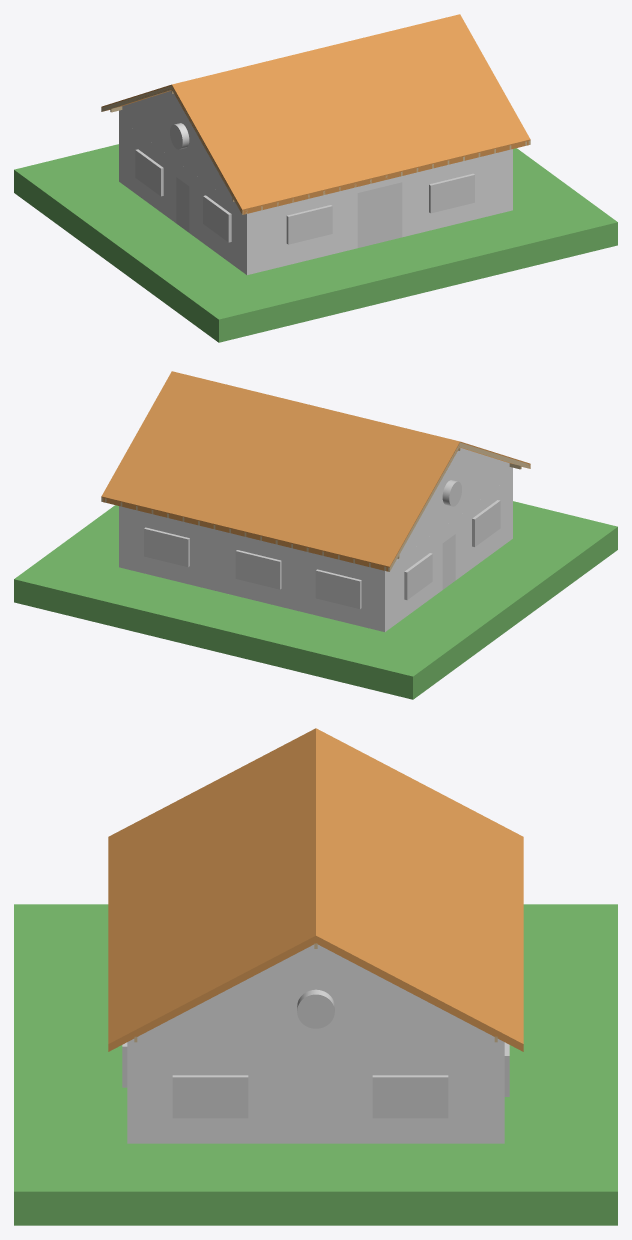
Rendered from casa-fzk-draco.glb.
3 renders of one model, top to bottom at view 1: azimuth 30°, elevation 25°; view 2: azimuth 150°, elevation 25°; view 3: azimuth 270°, elevation 25°, orthographic. The views are drawn at different scales.
Visible parts, largest first — view 1: product-92ede797-79f6-4b19-897f-a2c98ca59097-body, product-145b3b0a-bf19-4509-ba9a-e1604ce9fa67-body, product-463575f4-f696-42de-bde9-918a6fe7650a-body, product-f5661f93-e3d1-49ce-8861-886e8d4ef048-body, product-2ec5748a-7cb6-4b3f-92fc-fb015a7d1d9e-body, product-75f944a3-7150-c805-483c-d626a1631142-body, product-66022b85-b15d-5f6c-4a03-f05a8e78e524-body, product-b88a4815-c968-5066-013d-8d59a4f8b835-body, product-36a3495d-256b-e668-a87e-500895f4d206-body, product-97389d14-9a07-8f0b-8c9f-adb734767fa4-body, product-046e6878-0705-3bcd-0c53-ebe1f26cb571-body; view 2: product-145b3b0a-bf19-4509-ba9a-e1604ce9fa67-body, product-073b1976-d302-4c1c-a68c-26cf0bea970d-body, product-65f697f6-4f4c-4836-8159-e2e335d3cbfd-body, product-f5661f93-e3d1-49ce-8861-886e8d4ef048-body, product-2ec5748a-7cb6-4b3f-92fc-fb015a7d1d9e-body, product-0b19e58a-6a5f-ab9d-c6c0-c421a76a57b8-body, product-689e0070-8164-1a28-12bc-3c6563380d63-body, product-b21bbe9f-54cd-261d-b4e1-60a465941b34-body, product-36a3495d-256b-e668-a87e-500895f4d206-body, product-97389d14-9a07-8f0b-8c9f-adb734767fa4-body, product-046e6878-0705-3bcd-0c53-ebe1f26cb571-body; view 3: product-145b3b0a-bf19-4509-ba9a-e1604ce9fa67-body, product-073b1976-d302-4c1c-a68c-26cf0bea970d-body, product-92ede797-79f6-4b19-897f-a2c98ca59097-body, product-85a76959-f2e0-457f-9e21-4bff17528c54-body, product-df324d5e-52a4-4197-8572-08263dee8193-body, product-a63e1bb0-e57f-46d0-8761-c8ccca838162-body, product-98800651-181e-5c1c-7efb-f210721c4e08-body, product-280ac816-0d23-1e5d-f88a-bb0645892c3b-body.
Boxes of the visible parts, <box> form: product-92ede797-79f6-4b19-897f-a2c98ca59097-body: <box>172,14,530,214</box>; product-145b3b0a-bf19-4509-ba9a-e1604ce9fa67-body: <box>14,144,617,342</box>; product-463575f4-f696-42de-bde9-918a6fe7650a-body: <box>247,149,512,274</box>; product-f5661f93-e3d1-49ce-8861-886e8d4ef048-body: <box>119,119,246,274</box>; product-2ec5748a-7cb6-4b3f-92fc-fb015a7d1d9e-body: <box>119,91,236,204</box>; product-75f944a3-7150-c805-483c-d626a1631142-body: <box>357,182,402,247</box>; product-66022b85-b15d-5f6c-4a03-f05a8e78e524-body: <box>286,205,332,244</box>; product-b88a4815-c968-5066-013d-8d59a4f8b835-body: <box>429,173,474,213</box>; product-36a3495d-256b-e668-a87e-500895f4d206-body: <box>135,149,163,196</box>; product-97389d14-9a07-8f0b-8c9f-adb734767fa4-body: <box>203,195,231,242</box>; product-046e6878-0705-3bcd-0c53-ebe1f26cb571-body: <box>176,177,189,232</box>; product-145b3b0a-bf19-4509-ba9a-e1604ce9fa67-body: <box>14,501,617,699</box>; product-073b1976-d302-4c1c-a68c-26cf0bea970d-body: <box>101,371,459,571</box>; product-65f697f6-4f4c-4836-8159-e2e335d3cbfd-body: <box>119,506,384,631</box>; product-f5661f93-e3d1-49ce-8861-886e8d4ef048-body: <box>385,476,512,631</box>; product-2ec5748a-7cb6-4b3f-92fc-fb015a7d1d9e-body: <box>396,448,512,561</box>; product-0b19e58a-6a5f-ab9d-c6c0-c421a76a57b8-body: <box>235,550,281,589</box>; product-689e0070-8164-1a28-12bc-3c6563380d63-body: <box>315,569,361,608</box>; product-b21bbe9f-54cd-261d-b4e1-60a465941b34-body: <box>144,527,189,567</box>; product-36a3495d-256b-e668-a87e-500895f4d206-body: <box>404,553,432,599</box>; product-97389d14-9a07-8f0b-8c9f-adb734767fa4-body: <box>472,500,500,546</box>; product-046e6878-0705-3bcd-0c53-ebe1f26cb571-body: <box>442,534,455,589</box>; product-145b3b0a-bf19-4509-ba9a-e1604ce9fa67-body: <box>14,904,617,1225</box>; product-073b1976-d302-4c1c-a68c-26cf0bea970d-body: <box>316,728,523,1051</box>; product-92ede797-79f6-4b19-897f-a2c98ca59097-body: <box>108,728,315,1051</box>; product-85a76959-f2e0-457f-9e21-4bff17528c54-body: <box>127,1051,504,1143</box>; product-df324d5e-52a4-4197-8572-08263dee8193-body: <box>127,944,504,1051</box>; product-a63e1bb0-e57f-46d0-8761-c8ccca838162-body: <box>172,1075,248,1118</box>; product-98800651-181e-5c1c-7efb-f210721c4e08-body: <box>372,1075,448,1118</box>; product-280ac816-0d23-1e5d-f88a-bb0645892c3b-body: <box>297,989,334,1028</box>.
Bounding box in the file's own units: 18 × 7.32 × 16.
